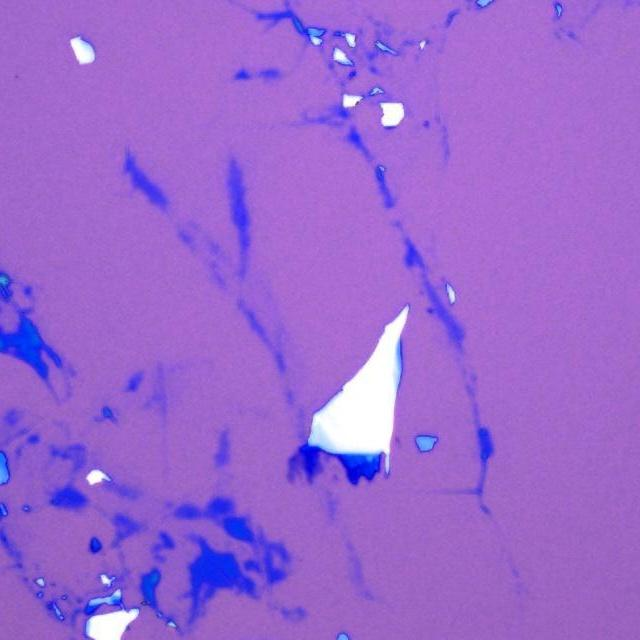monolayer-eWW4: (286, 466, 296, 484), (316, 462, 324, 476)
